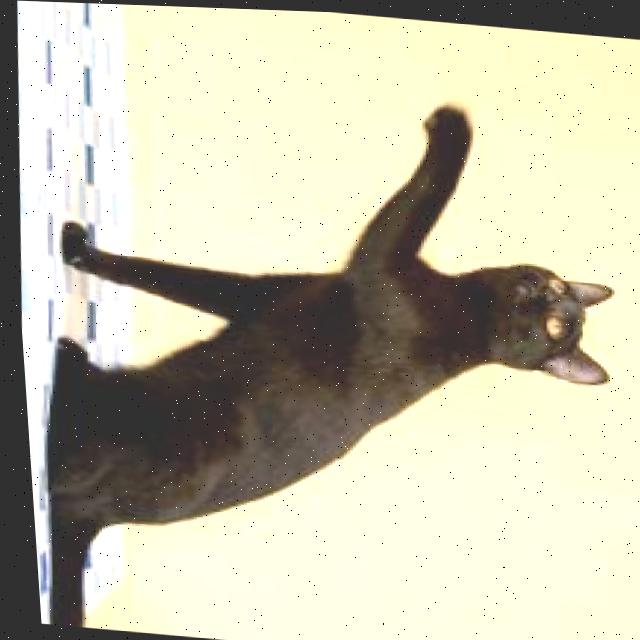Bombay: (4, 60, 640, 640)
